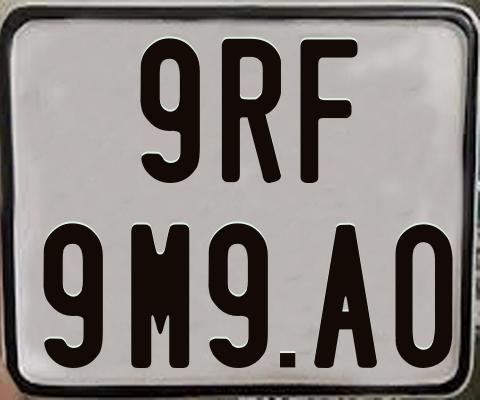0: (395, 223, 456, 373)
9: (137, 36, 201, 184), (43, 222, 106, 370), (207, 220, 271, 365)
A: (311, 225, 377, 368)
F: (298, 39, 361, 188)
M: (128, 224, 188, 373)
R: (222, 36, 281, 186)
